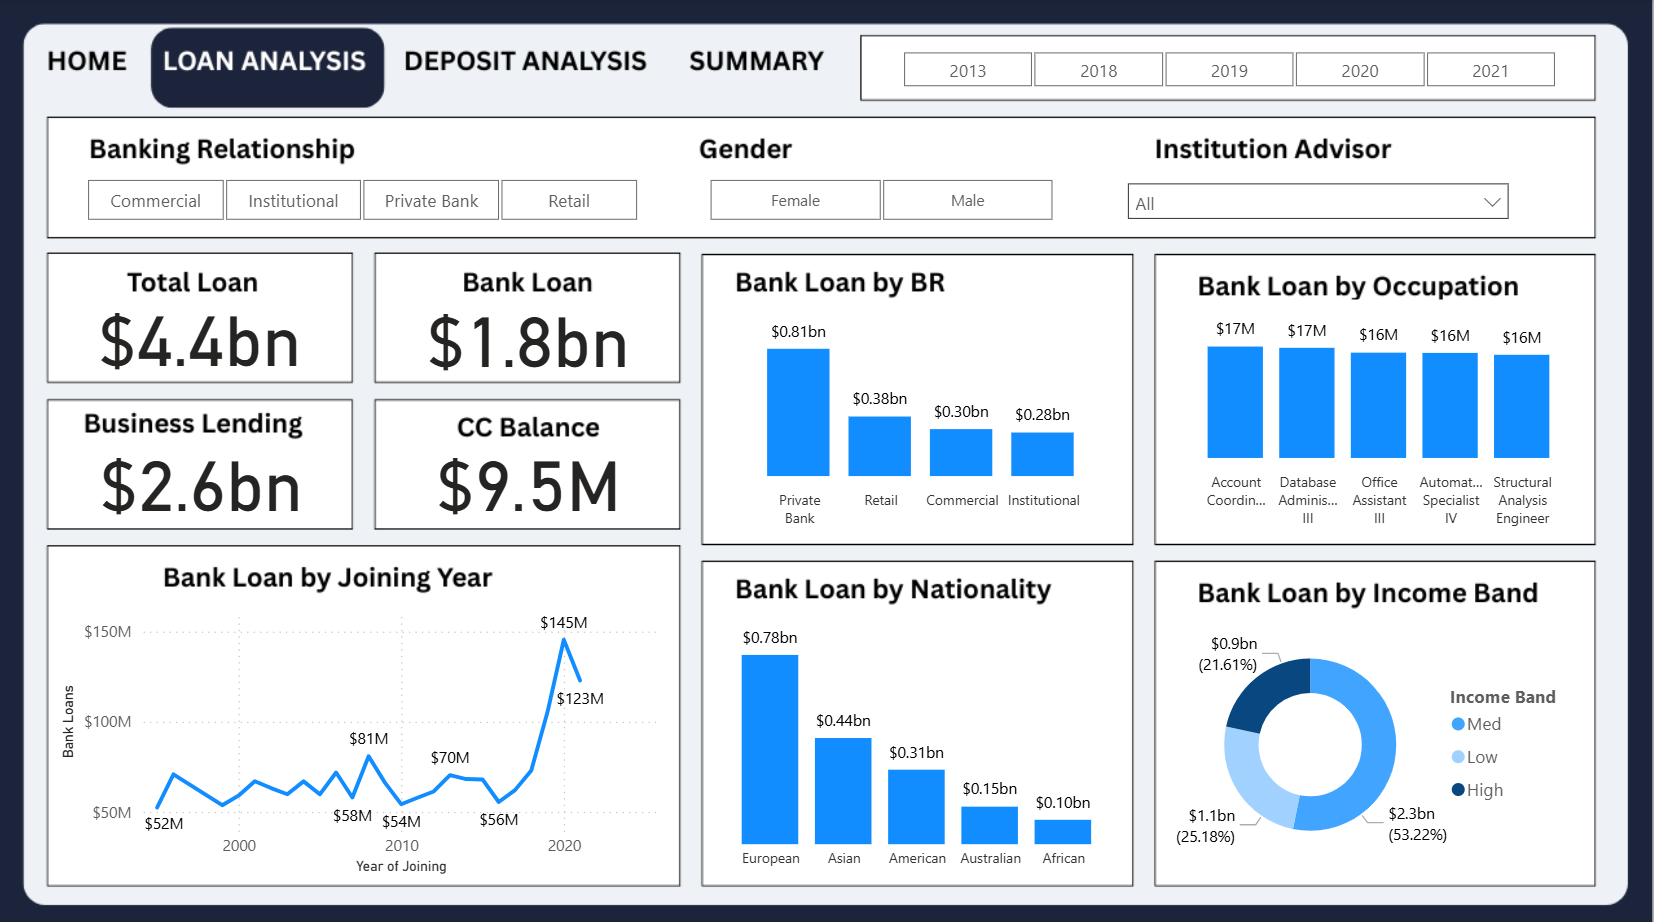

Layout of this report page (visuals, bound fields, positions):
{"tool":"powerbi","page":{"name":"Loan Analysis","canvas":[1280,720],"ordinal":1},"visuals":[{"type":"actionButton","box":[25.5,29,88.1,53.3],"z":0},{"type":"actionButton","box":[309.4,29,201.6,53.3],"z":1000},{"type":"actionButton","box":[526.1,29,128.6,53.3],"z":2000},{"type":"slicer","fields":{"Values":["banking_case banking.Year of Joining"]},"box":[675.5,34.8,552.7,40.6],"z":3000},{"type":"card","fields":{"Values":["Measure.Total Loan"]},"box":[53.3,215.5,207.4,84.6],"z":4000},{"type":"card","fields":{"Values":["Measure.Business Lending"]},"box":[73,334.9,170.3,69.5],"z":5000},{"type":"card","fields":{"Values":["Sum(banking_case banking.Bank Loans)"]},"box":[325.6,223.6,170.3,69.5],"z":6000},{"type":"card","fields":{"Values":["Sum(banking_case banking.Credit Card Balance)"]},"box":[325.6,334.9,170.3,69.5],"z":7000},{"type":"donutChart","fields":{"Category":["banking_case banking.Income Band"],"Y":["Measure.Total Loan"]},"box":[901.5,471.6,326.8,209.7],"z":8000},{"type":"clusteredColumnChart","fields":{"Category":["banking_case banking.BRId"],"Y":["Sum(banking_case banking.Bank Loans)"]},"box":[556.2,232.9,308.2,183.1],"z":9000},{"type":"clusteredColumnChart","fields":{"Y":["Sum(banking_case banking.Bank Loans)"],"Category":["banking_case banking.Nationality"]},"box":[548.1,471.6,326.8,209.7],"z":10000},{"type":"clusteredColumnChart","fields":{"Y":["Sum(banking_case banking.Bank Loans)"],"Category":["banking_case banking.Occupation"]},"box":[901.5,232.9,326.8,183.1],"z":11000},{"type":"slicer","fields":{"Values":["banking_case banking.BRId"]},"box":[45.2,133.3,473.9,45.2],"z":12000},{"type":"slicer","fields":{"Values":["banking_case banking.GenderId"]},"box":[526.1,133.3,314,45.2],"z":13000},{"type":"slicer","fields":{"Values":["banking_case banking.IAId"]},"box":[864.4,133.3,314,45.2],"z":14000},{"type":"lineChart","fields":{"Category":["banking_case banking.Year of Joining"],"Y":["Sum(banking_case banking.Bank Loans)"]},"box":[45.2,461.2,473.9,220.2],"z":15000}]}

Visuals, with their boxes in screenshot pixels (x1, y1, x2, y2), scaled from the page's 1280x720 canvas onto the 1654x922 screenshot:
actionButton: box=[33, 37, 147, 105]
actionButton: box=[400, 37, 660, 105]
actionButton: box=[680, 37, 846, 105]
slicer - banking_case banking.Year of Joining: box=[873, 45, 1587, 97]
card - Measure.Total Loan: box=[69, 276, 337, 384]
card - Measure.Business Lending: box=[94, 429, 314, 518]
card - Sum(banking_case banking.Bank Loans): box=[421, 286, 641, 375]
card - Sum(banking_case banking.Credit Card Balance): box=[421, 429, 641, 518]
donutChart - banking_case banking.Income Band x Measure.Total Loan: box=[1165, 604, 1587, 872]
clusteredColumnChart - banking_case banking.BRId x Sum(banking_case banking.Bank Loans): box=[719, 298, 1117, 533]
clusteredColumnChart - Sum(banking_case banking.Bank Loans) x banking_case banking.Nationality: box=[708, 604, 1131, 872]
clusteredColumnChart - Sum(banking_case banking.Bank Loans) x banking_case banking.Occupation: box=[1165, 298, 1587, 533]
slicer - banking_case banking.BRId: box=[58, 171, 671, 229]
slicer - banking_case banking.GenderId: box=[680, 171, 1086, 229]
slicer - banking_case banking.IAId: box=[1117, 171, 1523, 229]
lineChart - banking_case banking.Year of Joining x Sum(banking_case banking.Bank Loans): box=[58, 591, 671, 873]
